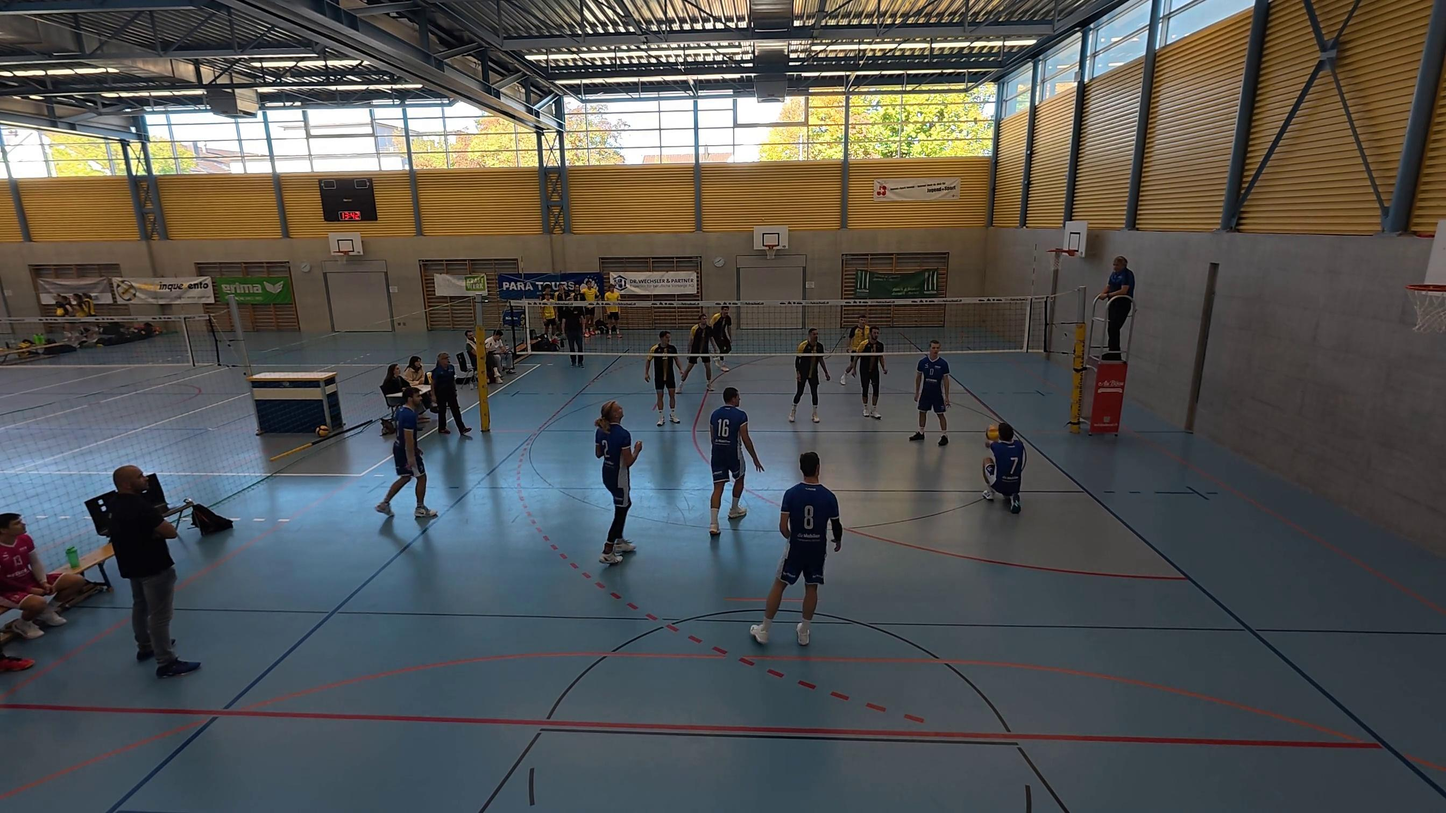ricezione: (980, 420, 1028, 515)
